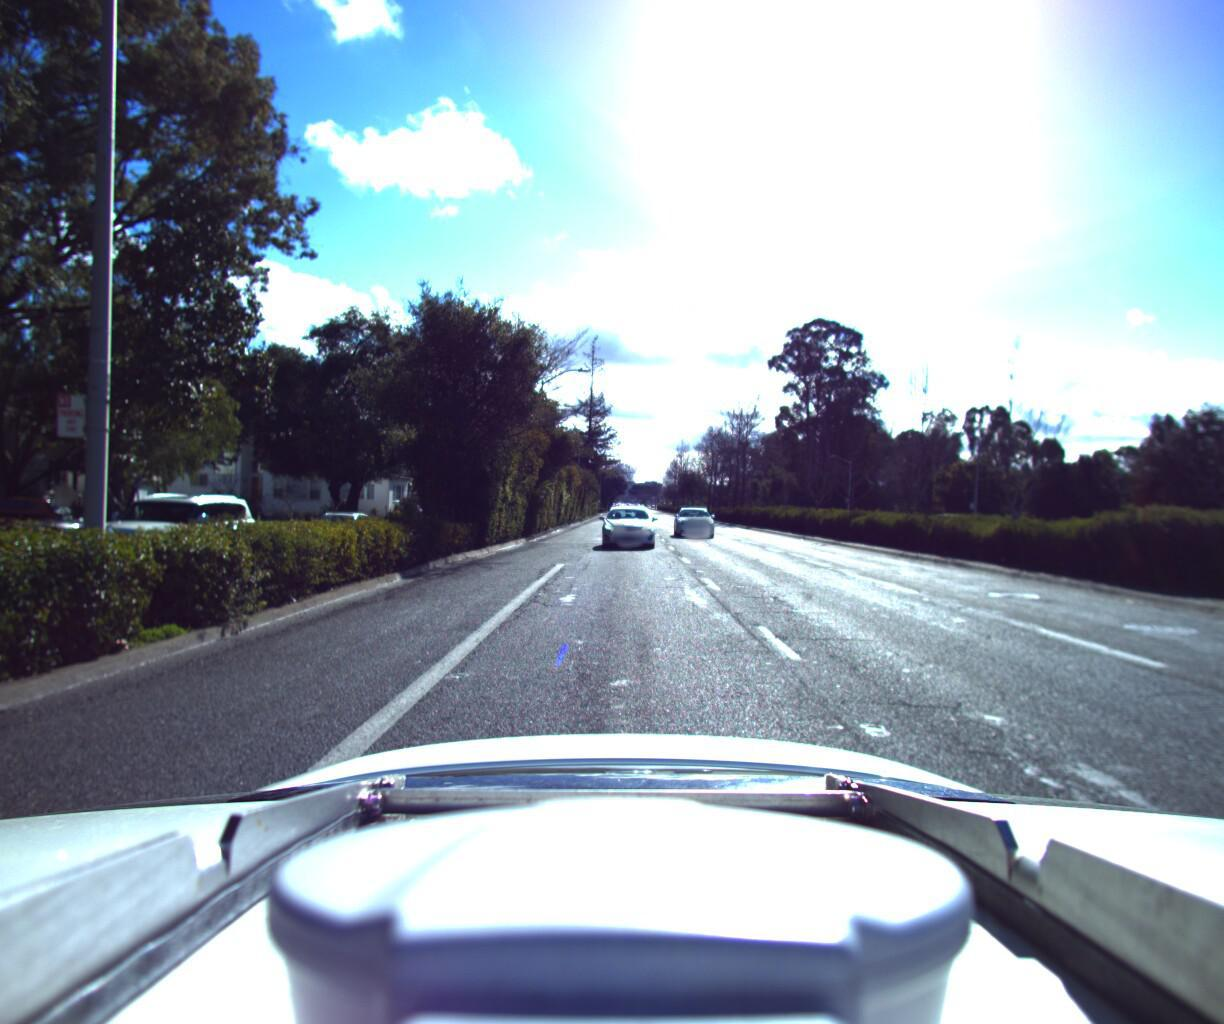car: (63, 489, 265, 586), (0, 510, 141, 615), (291, 504, 383, 562), (0, 491, 83, 543), (596, 498, 655, 546), (1186, 513, 1224, 582), (671, 501, 719, 539)
